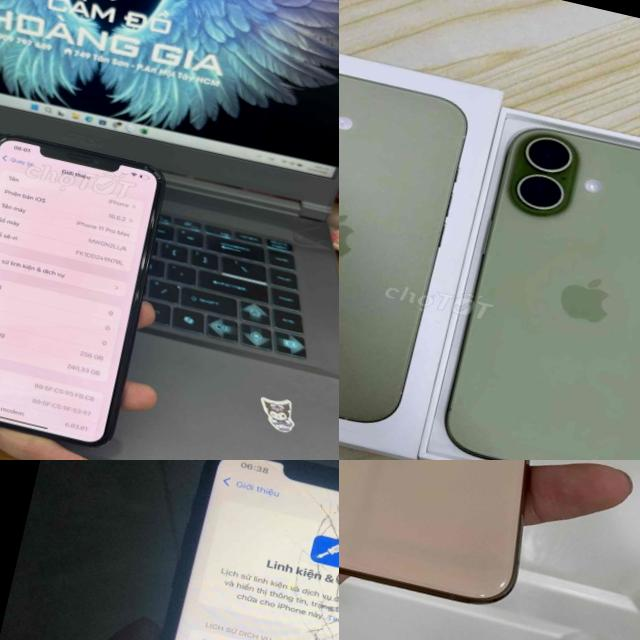gen_11: (0, 137, 162, 445), (93, 460, 339, 640)
gen_17: (445, 129, 640, 460)
gen_x_xs: (339, 460, 605, 625)
